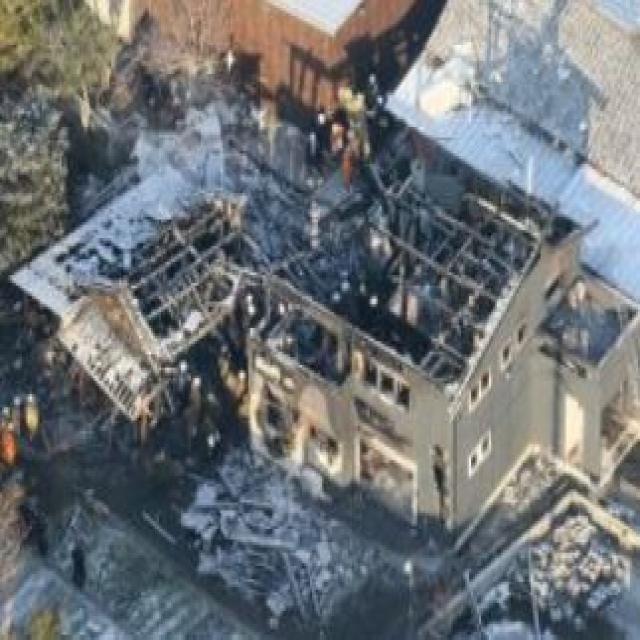collapsed_building: (248, 172, 552, 508), (30, 185, 242, 423)
